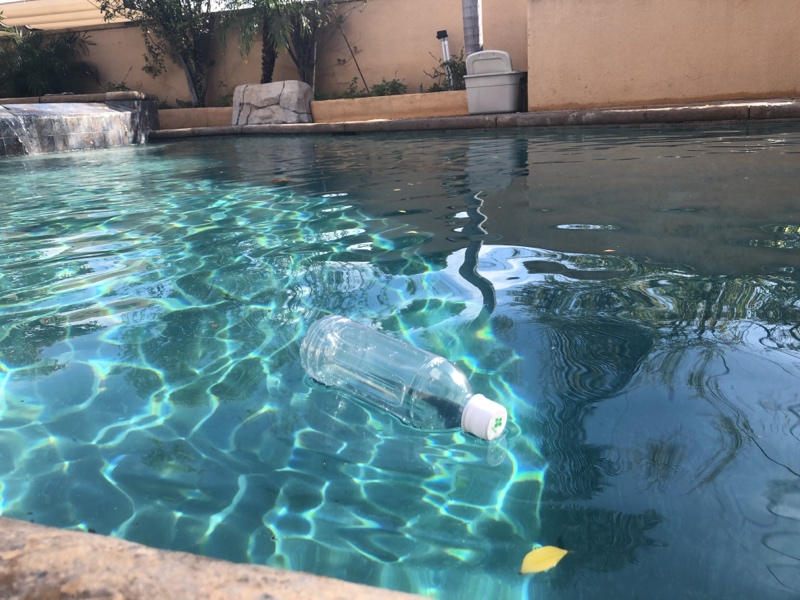Plastic Bottle: (296, 311, 510, 446)
